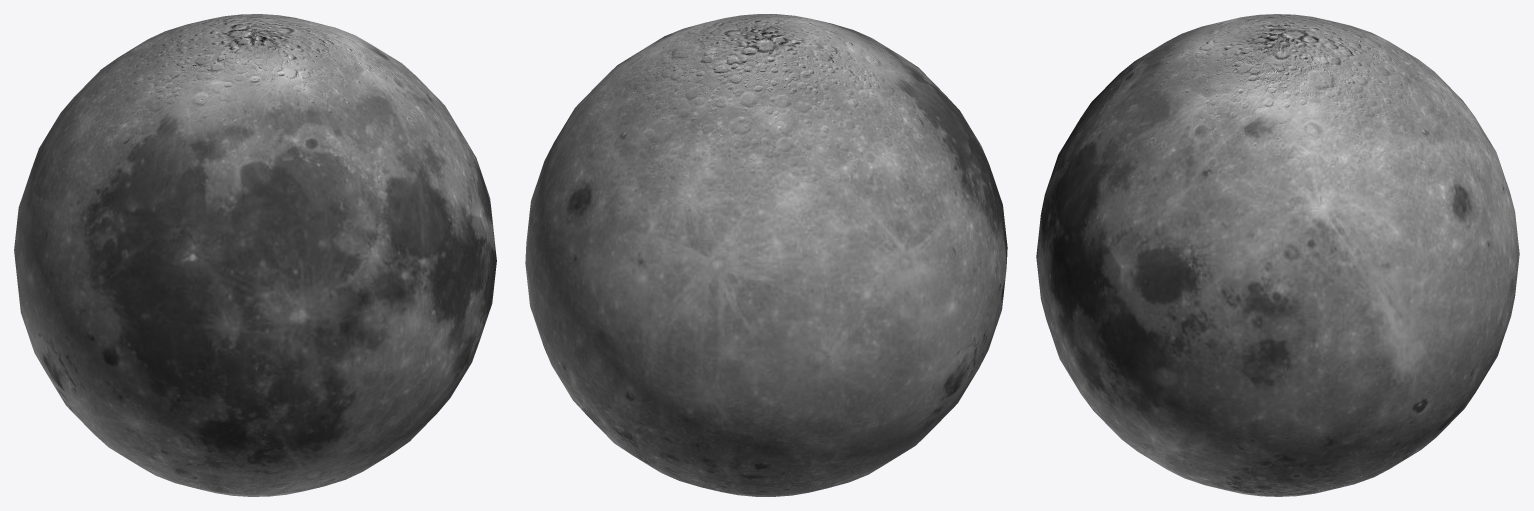
File: yueliang.obj
The picture shows the model from 3 angles, left to right: view 1: azimuth 30°, elevation 25°; view 2: azimuth 150°, elevation 25°; view 3: azimuth 270°, elevation 25°; orthographic projection.
Parts seen in each view (by area): view 1: Sphere001; view 2: Sphere001; view 3: Sphere001.
Part boxes in pixels (<box>): Sphere001: <box>14,14,496,496</box>; Sphere001: <box>525,14,1007,496</box>; Sphere001: <box>1036,14,1519,496</box>.
Bounding box in the file's own units: 78.32 × 78.33 × 78.32.
1 material, 1 textured.
